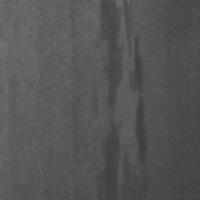inclusion: (94, 1, 148, 199), (60, 94, 83, 169)
